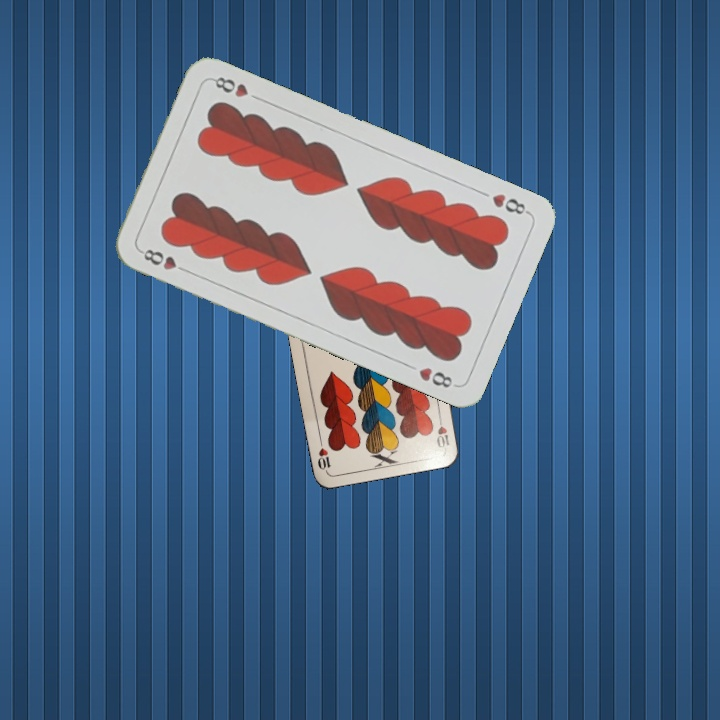H10: (432, 411, 452, 451)
H8: (136, 245, 192, 276), (488, 189, 532, 218)
